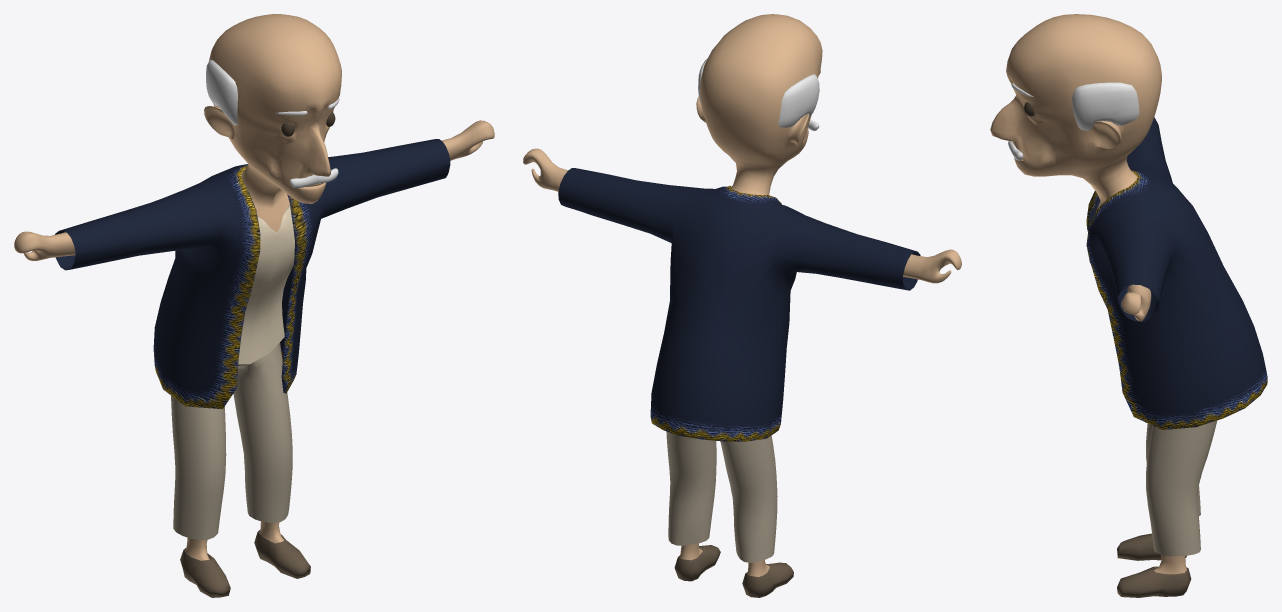
File: headman.fbx
3 views of the same model, side by side, from view 1: azimuth 30°, elevation 25°; view 2: azimuth 150°, elevation 25°; view 3: azimuth 270°, elevation 25° (orthographic). The views are drawn at different scales.
Visible parts, largest first — view 1: headman; view 2: headman; view 3: headman.
Boxes of the visible parts, x1=… form: headman: x1=14, y1=14, x2=494, y2=597; headman: x1=523, y1=14, x2=961, y2=597; headman: x1=990, y1=14, x2=1267, y2=597.
Size of the model in its own units: 0.8713 by 1.01 by 0.4594.
1 material, 1 textured.
